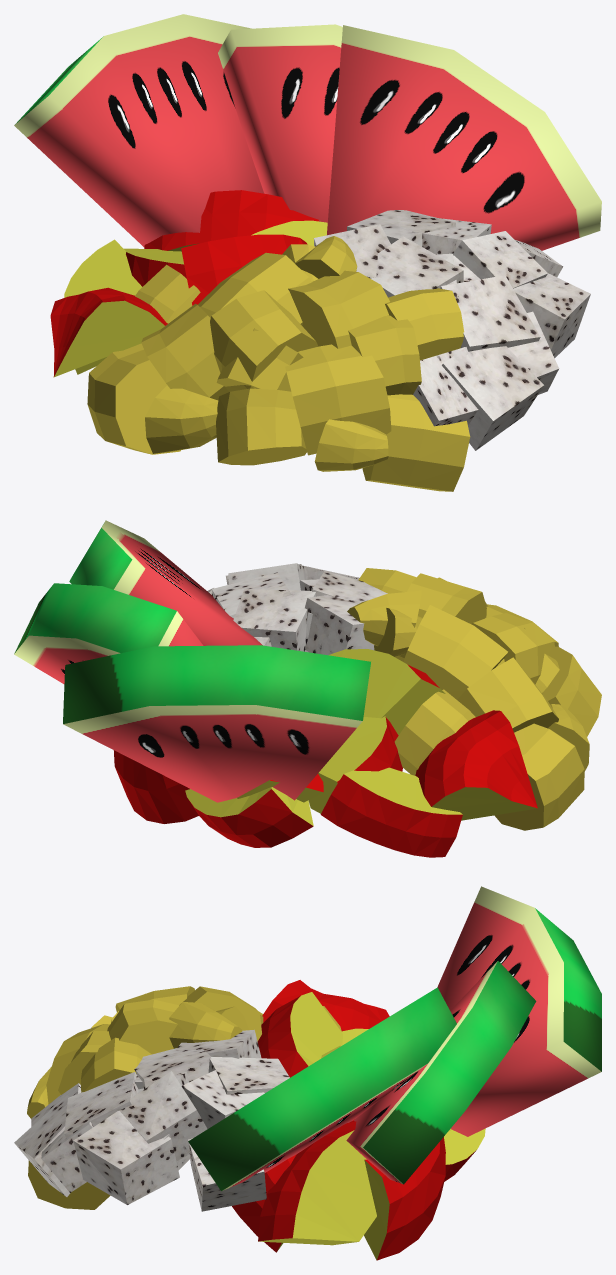
Rendered from BowlContent3.obj.
The picture shows the model from 3 angles, top to bottom: view 1: azimuth 30°, elevation 25°; view 2: azimuth 150°, elevation 25°; view 3: azimuth 270°, elevation 25°; orthographic projection. The views are drawn at different scales.
Parts seen in each view (by area): view 1: Melon_low.006_Sphere.009, Melon_low.004_Sphere.007, Melon_low.005_Sphere.008, Banana_to_export.020_Cylinder.016, Bouncing_apple.047_Cylinder.014, Banana_to_export.026_Cylinder.016, Banana_to_export.018_Cylinder.017, Cube.002_Cube.003, Banana_to_export.006_Cylinder.017, Banana_to_export.014_Cylinder.016, Banana_to_export.024_Cylinder.017, Banana_to_export.012_Cylinder.017 (+22 smaller); view 2: Melon_low.004_Sphere.007, Melon_low.005_Sphere.008, Bouncing_apple.047_Cylinder.014, Melon_low.006_Sphere.009, Bouncing_apple.049_Cylinder.005, Banana_to_export.008_Cylinder.016, Banana_to_export.006_Cylinder.017, Bouncing_apple.045_Cylinder.015, Bouncing_apple.048_Cylinder.015, Banana_to_export.012_Cylinder.017, Cube.022_Cube.003, Bouncing_apple.042_Cylinder.015 (+15 smaller); view 3: Melon_low.004_Sphere.007, Melon_low.006_Sphere.009, Melon_low.005_Sphere.008, Bouncing_apple.040_Cylinder.005, Cube.014_Cube.003, Bouncing_apple.044_Cylinder.014, Bouncing_apple.048_Cylinder.015, Cube.012_Cube.003, Banana_to_export.024_Cylinder.017, Cube.010_Cube.003, Bouncing_apple.047_Cylinder.014, Cube.022_Cube.003 (+16 smaller).
Part boxes in pixels (<box>): Melon_low.006_Sphere.009: <box>327,25,601,250</box>; Melon_low.004_Sphere.007: <box>14,14,263,246</box>; Melon_low.005_Sphere.008: <box>218,24,342,222</box>; Banana_to_export.020_Cylinder.016: <box>285,344,391,455</box>; Bouncing_apple.047_Cylinder.014: <box>50,287,167,377</box>; Banana_to_export.026_Cylinder.016: <box>362,394,470,491</box>; Banana_to_export.018_Cylinder.017: <box>216,388,306,465</box>; Cube.002_Cube.003: <box>442,346,543,450</box>; Banana_to_export.006_Cylinder.017: <box>87,343,180,454</box>; Banana_to_export.014_Cylinder.016: <box>210,290,318,391</box>; Banana_to_export.024_Cylinder.017: <box>288,270,389,348</box>; Banana_to_export.012_Cylinder.017: <box>141,303,229,400</box>; Melon_low.004_Sphere.007: <box>63,645,370,802</box>; Melon_low.005_Sphere.008: <box>14,583,203,683</box>; Bouncing_apple.047_Cylinder.014: <box>415,710,537,820</box>; Melon_low.006_Sphere.009: <box>69,520,262,645</box>; Bouncing_apple.049_Cylinder.005: <box>320,767,462,857</box>; Banana_to_export.008_Cylinder.016: <box>403,605,508,699</box>; Banana_to_export.006_Cylinder.017: <box>494,723,584,830</box>; Bouncing_apple.045_Cylinder.015: <box>185,787,313,847</box>; Bouncing_apple.048_Cylinder.015: <box>328,649,445,735</box>; Banana_to_export.012_Cylinder.017: <box>457,657,558,732</box>; Cube.022_Cube.003: <box>233,589,315,651</box>; Bouncing_apple.042_Cylinder.015: <box>308,716,402,813</box>; Melon_low.004_Sphere.007: <box>437,886,601,1136</box>; Melon_low.006_Sphere.009: <box>188,987,456,1191</box>; Melon_low.005_Sphere.008: <box>346,961,536,1184</box>; Bouncing_apple.040_Cylinder.005: <box>258,1121,376,1245</box>; Cube.014_Cube.003: <box>73,1111,179,1204</box>; Bouncing_apple.044_Cylinder.014: <box>352,1119,445,1260</box>; Bouncing_apple.048_Cylinder.015: <box>257,992,342,1077</box>; Cube.012_Cube.003: <box>119,1071,207,1161</box>; Banana_to_export.024_Cylinder.017: <box>107,999,179,1054</box>; Cube.010_Cube.003: <box>64,1072,138,1137</box>; Bouncing_apple.047_Cylinder.014: <box>262,980,389,1031</box>; Cube.022_Cube.003: <box>208,1057,289,1094</box>.
Size of the model in its own units: 1.23 by 0.6965 by 1.38.
